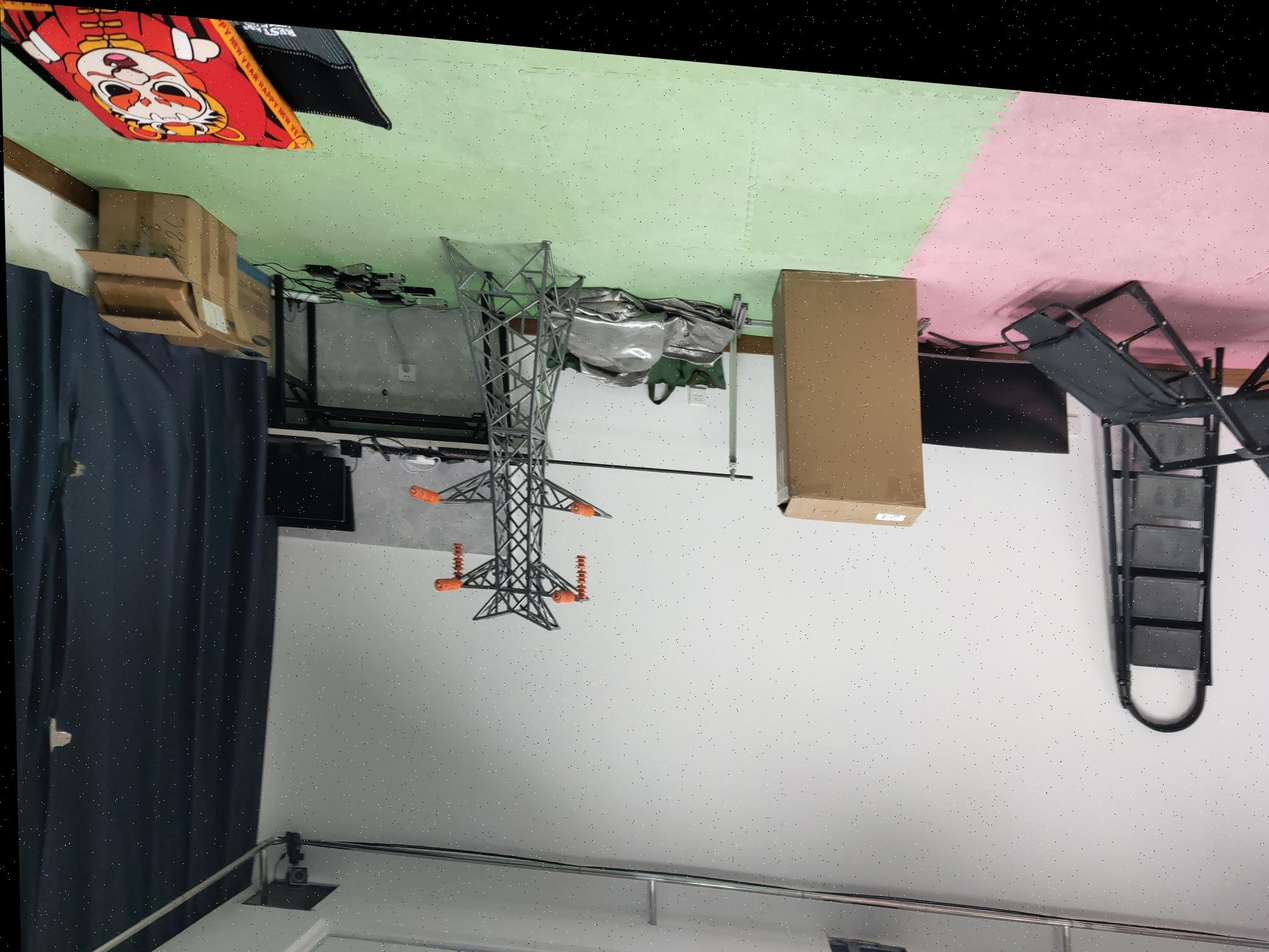tower: (441, 235, 613, 636)
